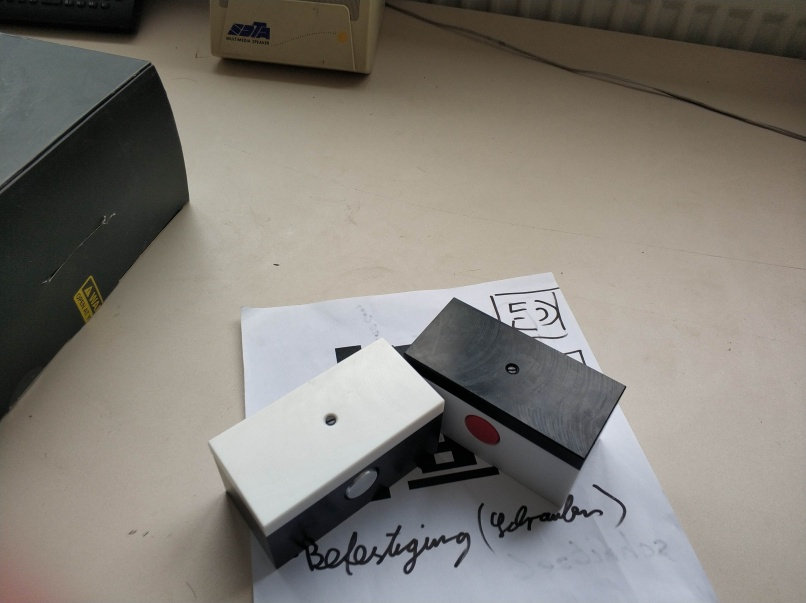black+white+red: (402, 296, 630, 514)
white+black+silver: (205, 331, 448, 571)
